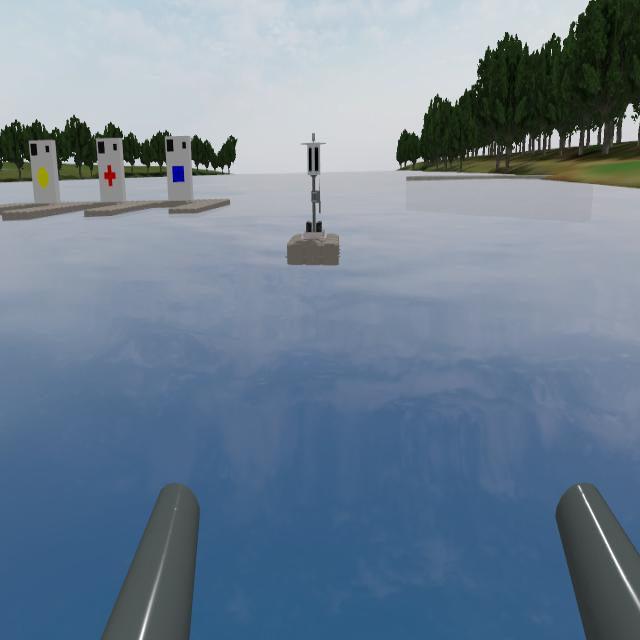black_pole: (300, 131, 327, 180)
